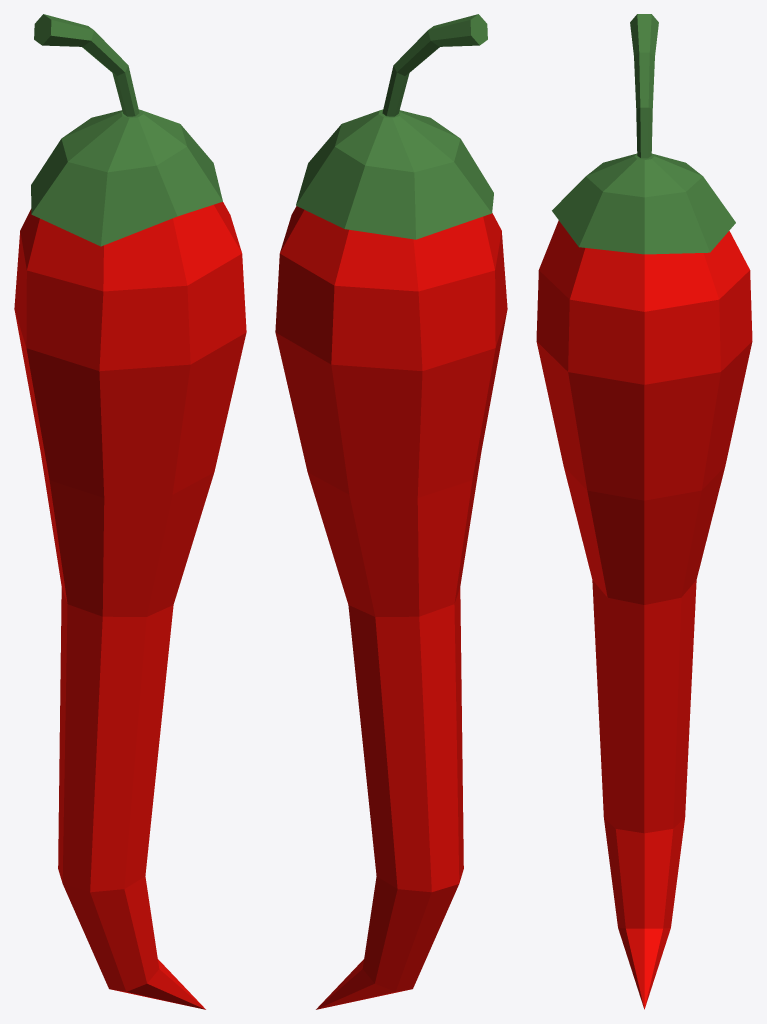
File: Red Chili pepper.obj
3 renders of one model, left to right at view 1: azimuth 30°, elevation 25°; view 2: azimuth 150°, elevation 25°; view 3: azimuth 270°, elevation 25°, orthographic. The views are drawn at different scales.
Parts seen in each view (by area): view 1: Red Chili pepper_0; view 2: Red Chili pepper_0; view 3: Red Chili pepper_0.
Boxes of the visible parts, left/top/right/bottom form: Red Chili pepper_0: left=14, top=14, right=246, bottom=1009; Red Chili pepper_0: left=275, top=14, right=507, bottom=1009; Red Chili pepper_0: left=536, top=14, right=752, bottom=1009.
Bounding box in the file's own units: 0.1205 × 0.5708 × 0.1206.
Materials: 1 (1 with a texture image).
